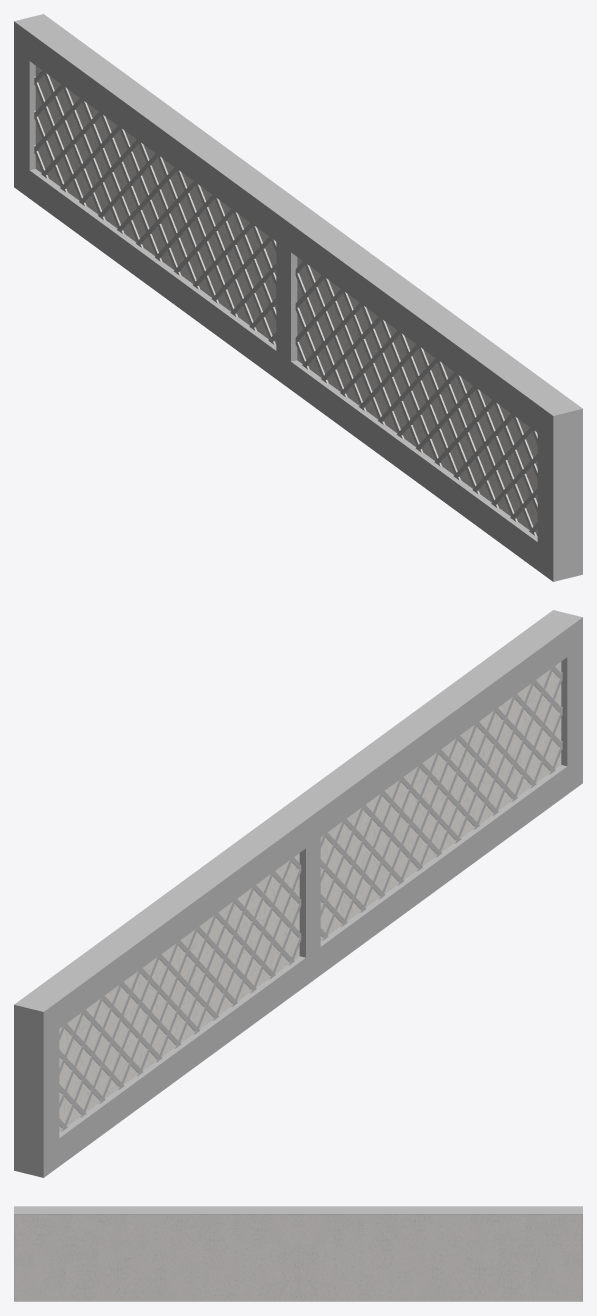
Rendered from SM_Window02Z-c.fbx.
3 views of the same model, one above another, from view 1: azimuth 30°, elevation 25°; view 2: azimuth 150°, elevation 25°; view 3: azimuth 270°, elevation 25° (orthographic). The views are drawn at different scales.
Parts seen in each view (by area): view 1: SM_Window02Z-c; view 2: SM_Window02Z-c; view 3: SM_Window02Z-c.
Part boxes in pixels (<box>): SM_Window02Z-c: <box>14,14,582,581</box>; SM_Window02Z-c: <box>14,610,582,1177</box>; SM_Window02Z-c: <box>14,1206,582,1301</box>.
Bounding box in the file's own units: 6.12 × 190 × 32.34.
